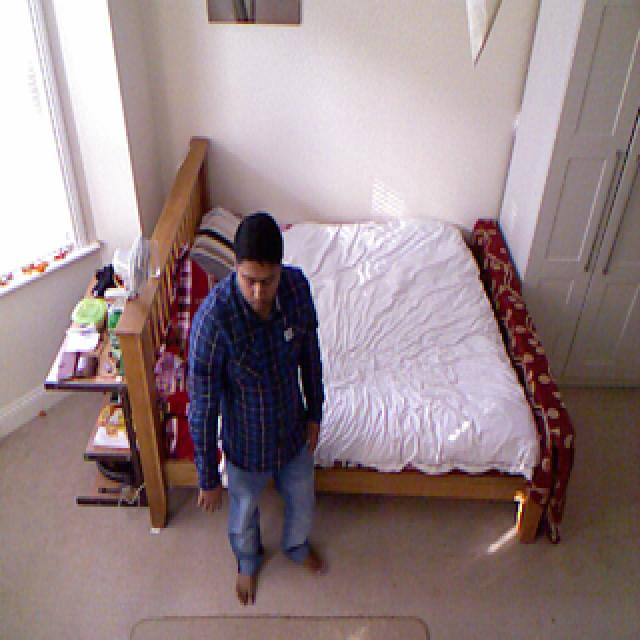standing: (191, 200, 328, 604)
